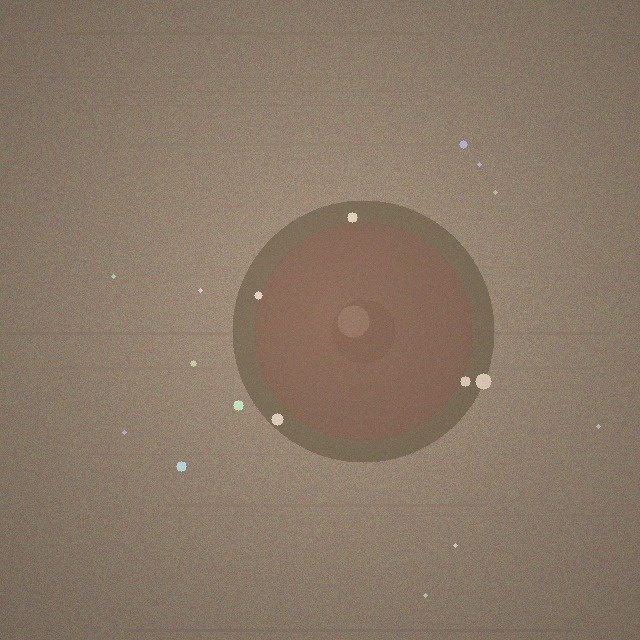overburn: (232, 200, 494, 462)
